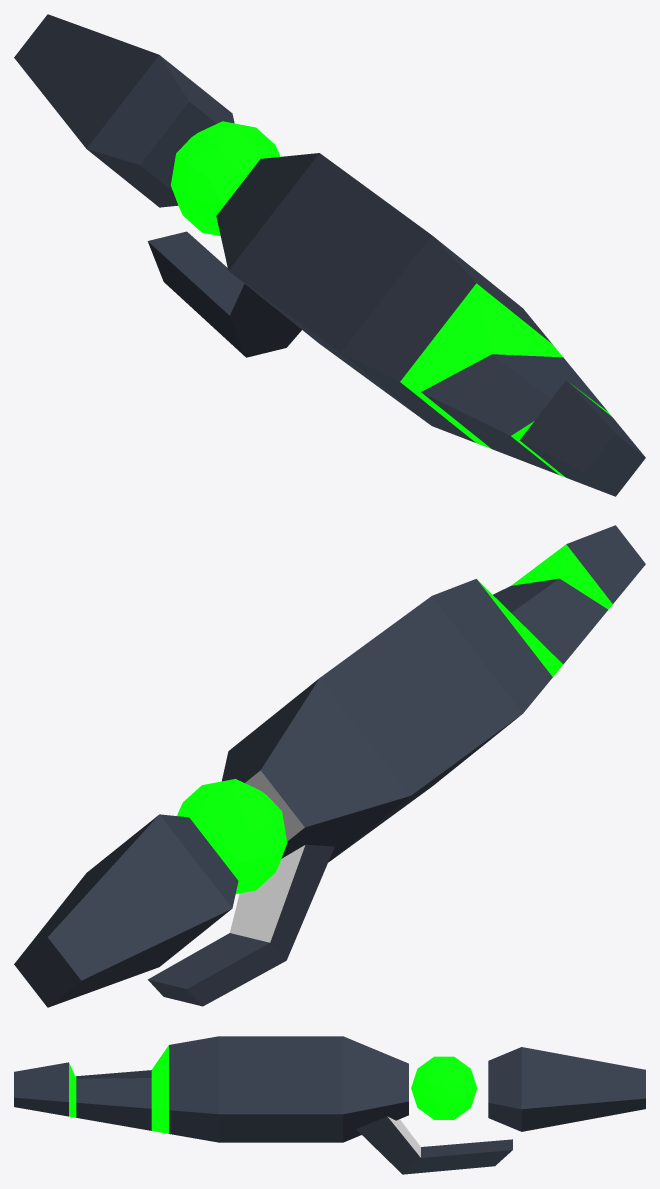
Rendered from gun.glb.
3 renders of one model, top to bottom at view 1: azimuth 30°, elevation 25°; view 2: azimuth 150°, elevation 25°; view 3: azimuth 270°, elevation 25°, orthographic. The views are drawn at different scales.
Parts seen in each view (by area): view 1: Cube; view 2: Cube; view 3: Cube.
Boxes of the visible parts, x1,y1,x2,y2 form: Cube: (14, 14, 645, 496); Cube: (14, 525, 645, 1007); Cube: (14, 1036, 645, 1174).
Size of the model in its own units: 1.41 by 1.77 by 7.62.
